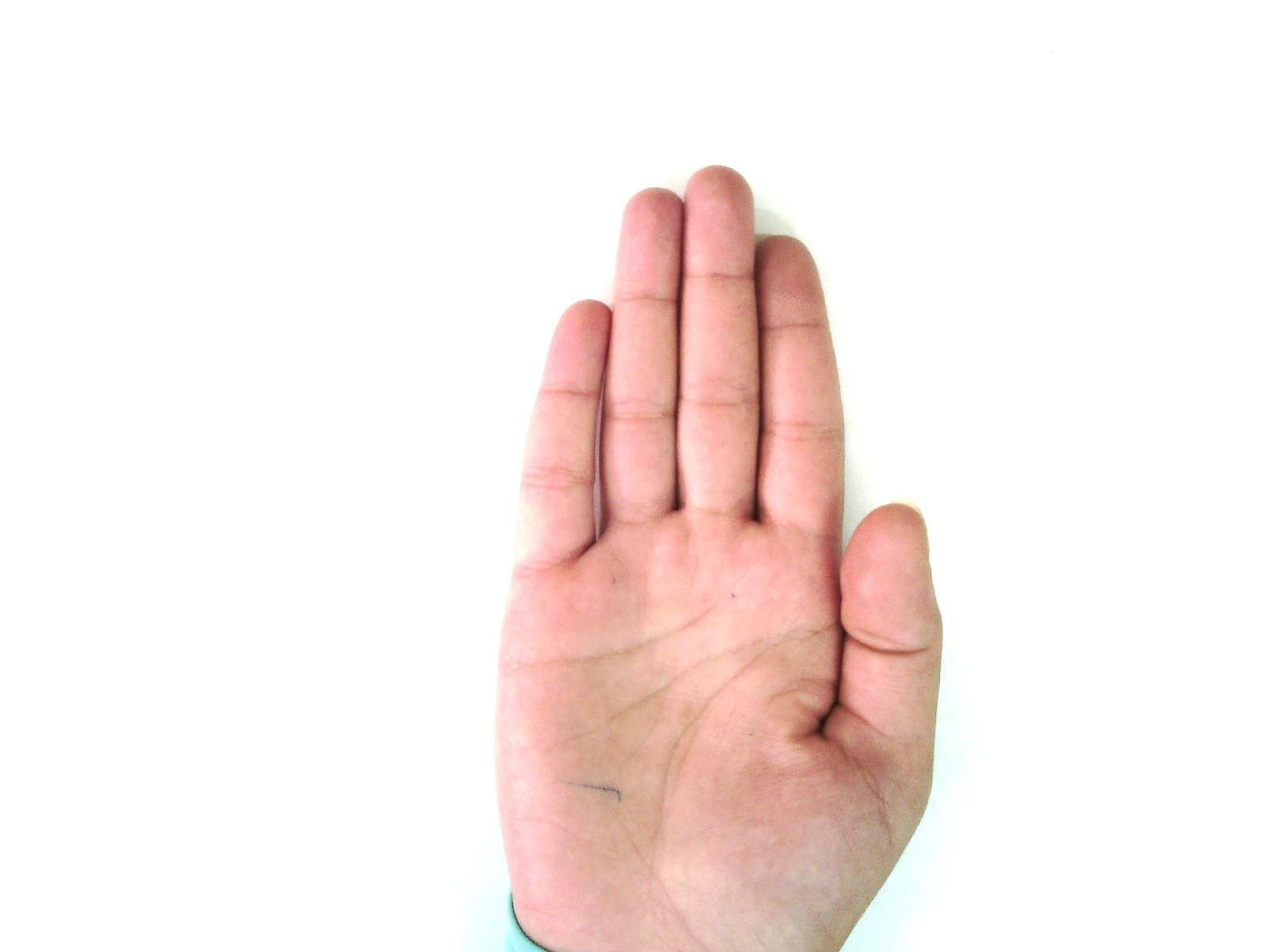open_palm: (490, 164, 947, 951)
